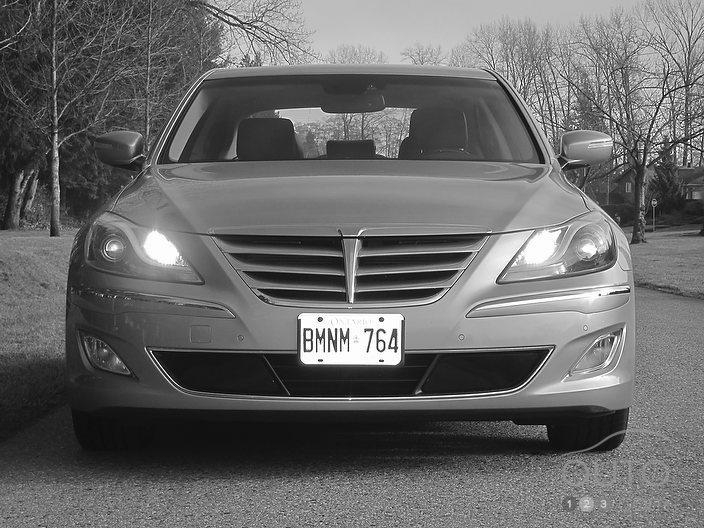car: (67, 68, 635, 451)
